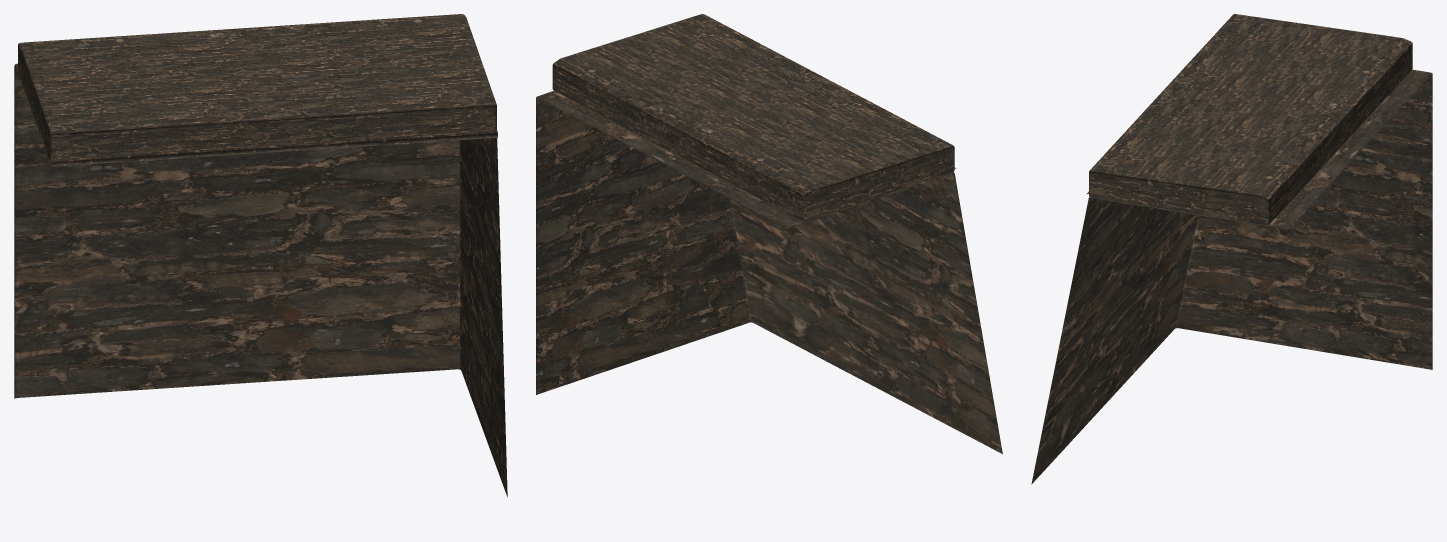
Rendered from block_34.glb.
The picture shows the model from 3 angles, left to right: view 1: azimuth 30°, elevation 25°; view 2: azimuth 150°, elevation 25°; view 3: azimuth 270°, elevation 25°; orthographic projection. The views are drawn at different scales.
Visible parts, largest first — view 1: block_34; view 2: block_34; view 3: block_34.
Part boxes in pixels (left/top/right/bottom): block_34: left=14, top=14, right=507, bottom=496; block_34: left=536, top=14, right=1002, bottom=454; block_34: left=1031, top=14, right=1432, bottom=484.
Bounding box in the file's own units: 2.85 × 2.18 × 2.42.
Materials: 2 (2 with a texture image).
